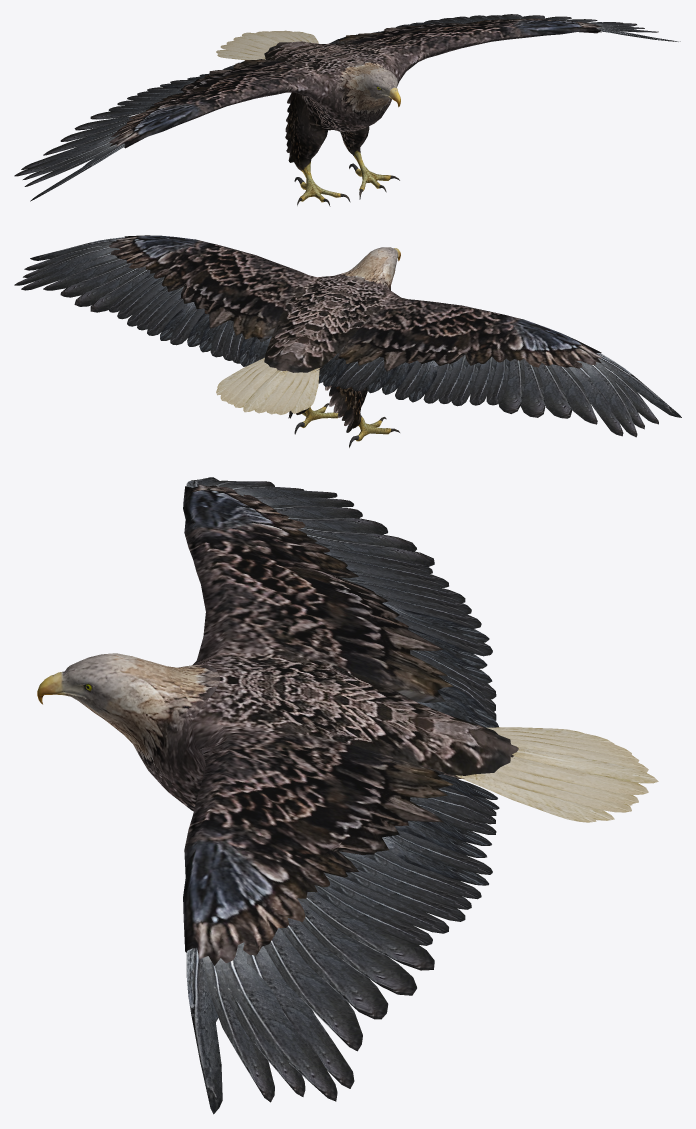
Rendered from Eagle.fbx.
3 views of the same model, one above another, from view 1: azimuth 30°, elevation 25°; view 2: azimuth 150°, elevation 25°; view 3: azimuth 270°, elevation 25° (orthographic). The views are drawn at different scales.
Visible parts, largest first — view 1: sm_1_0_0; view 2: sm_1_0_0; view 3: sm_1_0_0.
Boxes of the visible parts, x1=… form: sm_1_0_0: x1=14, y1=14, x2=680, y2=206; sm_1_0_0: x1=14, y1=235, x2=681, y2=447; sm_1_0_0: x1=37, y1=477, x2=658, y2=1114.
Bounding box in the file's own units: 231 × 50.81 × 95.4.
Materials: 1 (1 with a texture image).
